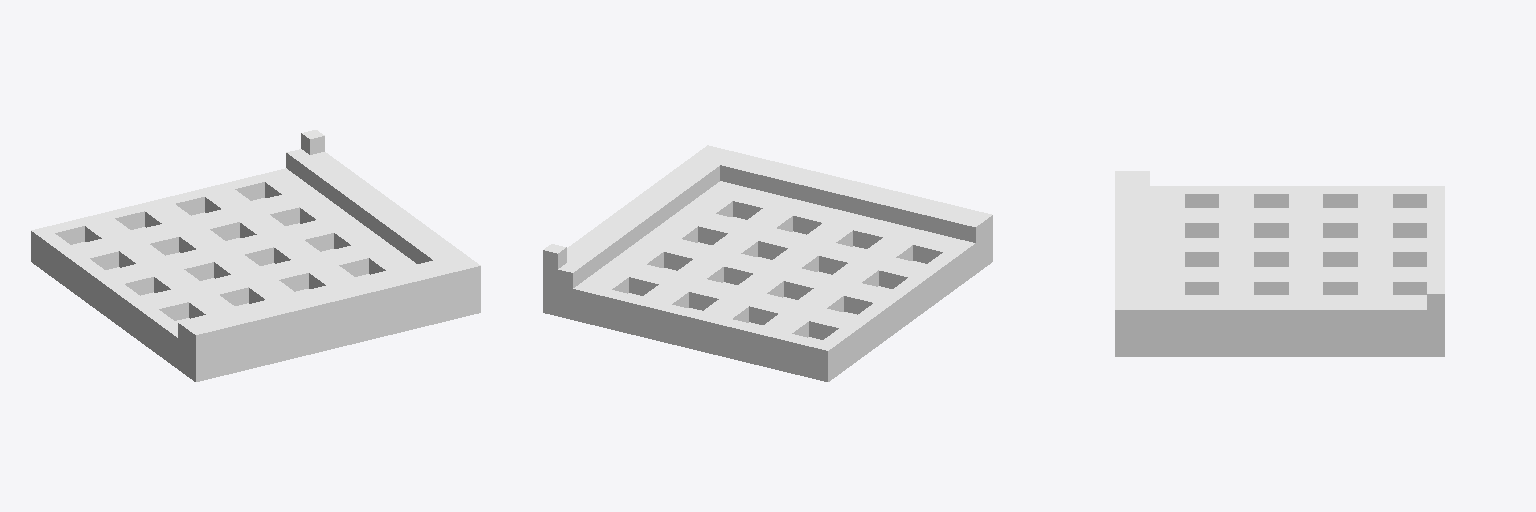
File: cubierta_1.obj
3 renders of one model, left to right at view 1: azimuth 30°, elevation 25°; view 2: azimuth 150°, elevation 25°; view 3: azimuth 270°, elevation 25°, orthographic.
Size of the model in its own units: 19 by 4 by 19.